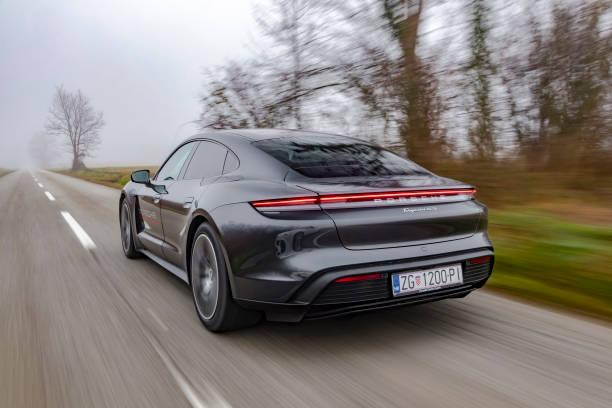porsche: (360, 188, 452, 207)
